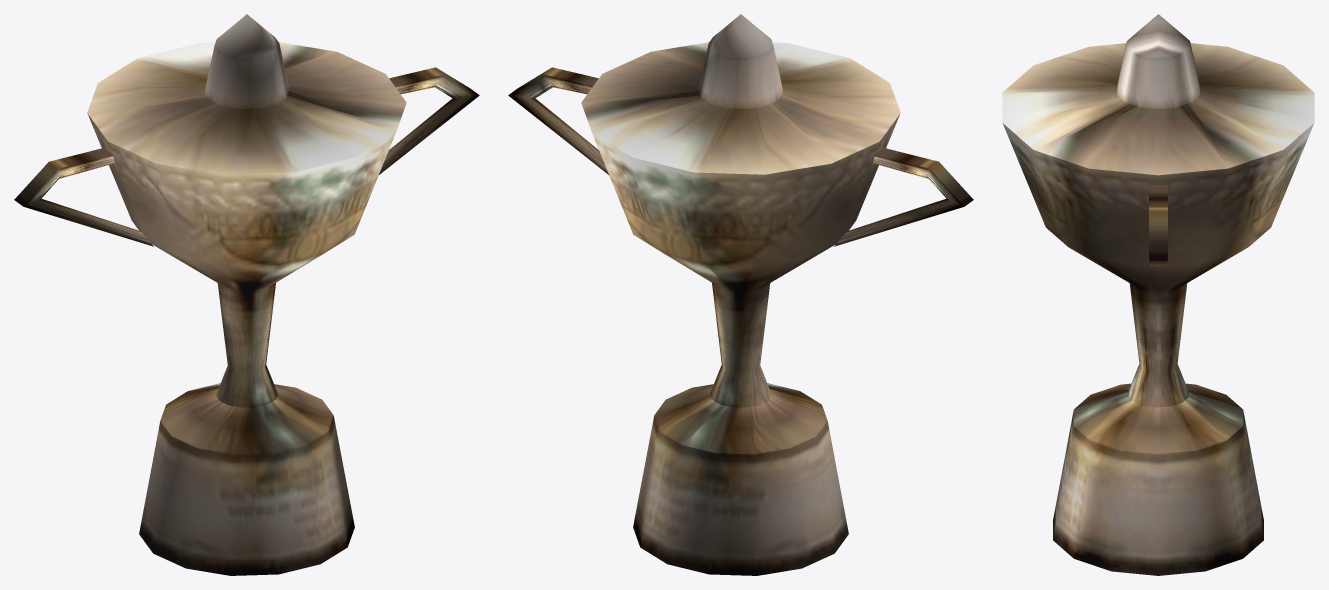
The model's file is list.ico.obj.
3 views of the same model, side by side, from view 1: azimuth 30°, elevation 25°; view 2: azimuth 150°, elevation 25°; view 3: azimuth 270°, elevation 25° (orthographic).
Bounding box in the file's own units: 4.58 × 4.95 × 2.71.
1 material, 1 textured.
